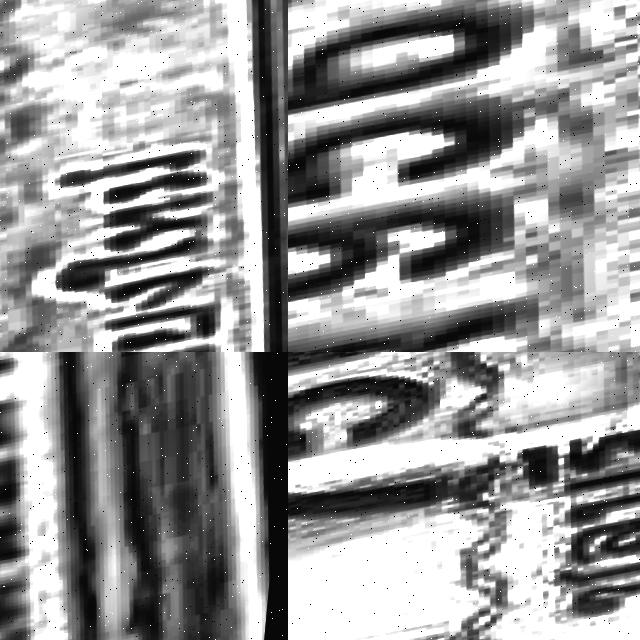license-plate: (288, 0, 640, 352), (0, 0, 288, 352), (288, 352, 640, 640), (0, 352, 221, 640)
